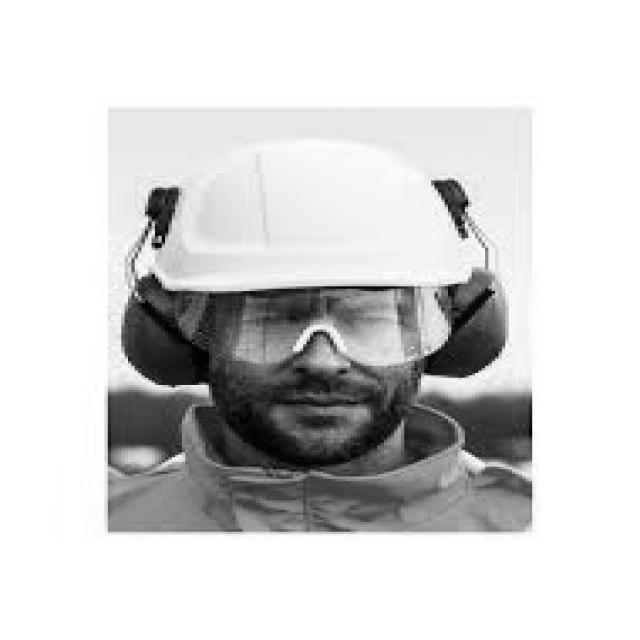safety_helmet: (138, 142, 495, 296)
